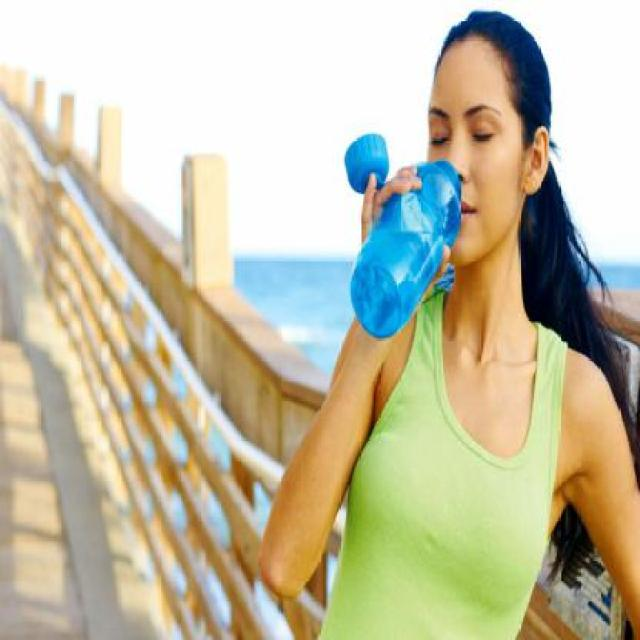Drinking: (320, 116, 469, 333)
